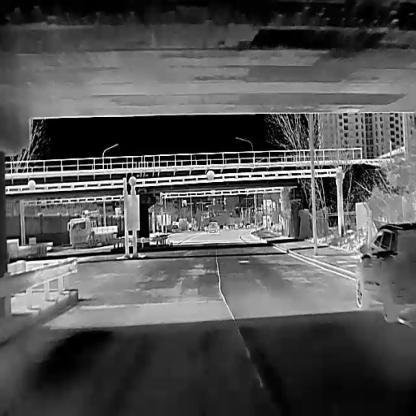car: (353, 219, 415, 322), (67, 215, 119, 247), (207, 221, 220, 233), (171, 224, 180, 233)
